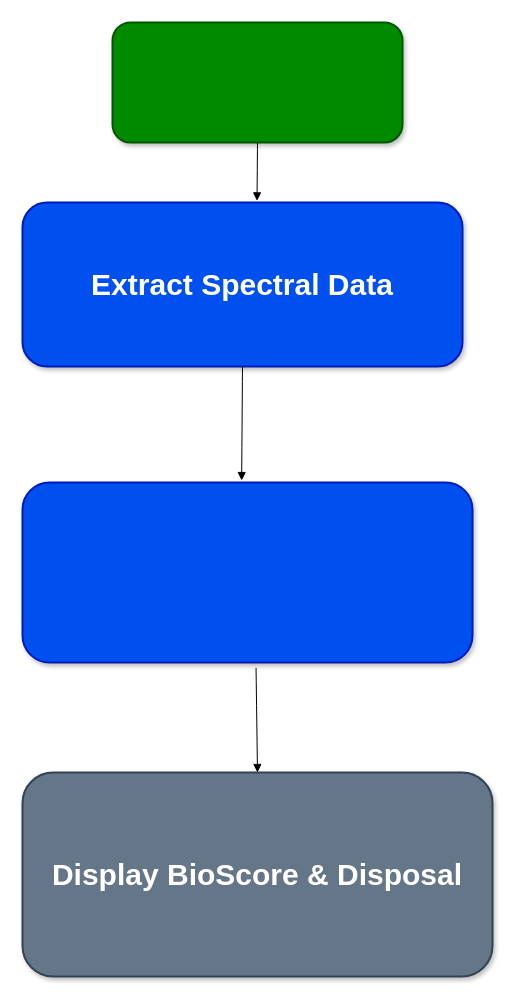
The diagram is 516 pixels wide and 1001 high, and some of its shapes have lost their labels. The shapes that lost their labels are listed below. From the top down, each one's centre as x and y in pixels, then its label:
At point (258, 83): "Scan Plastic".
At point (248, 573): "AI Model Prediction".
